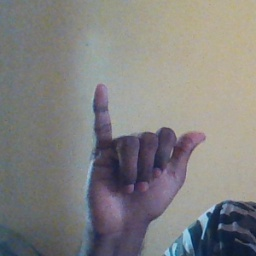J: (82, 82, 208, 227)
